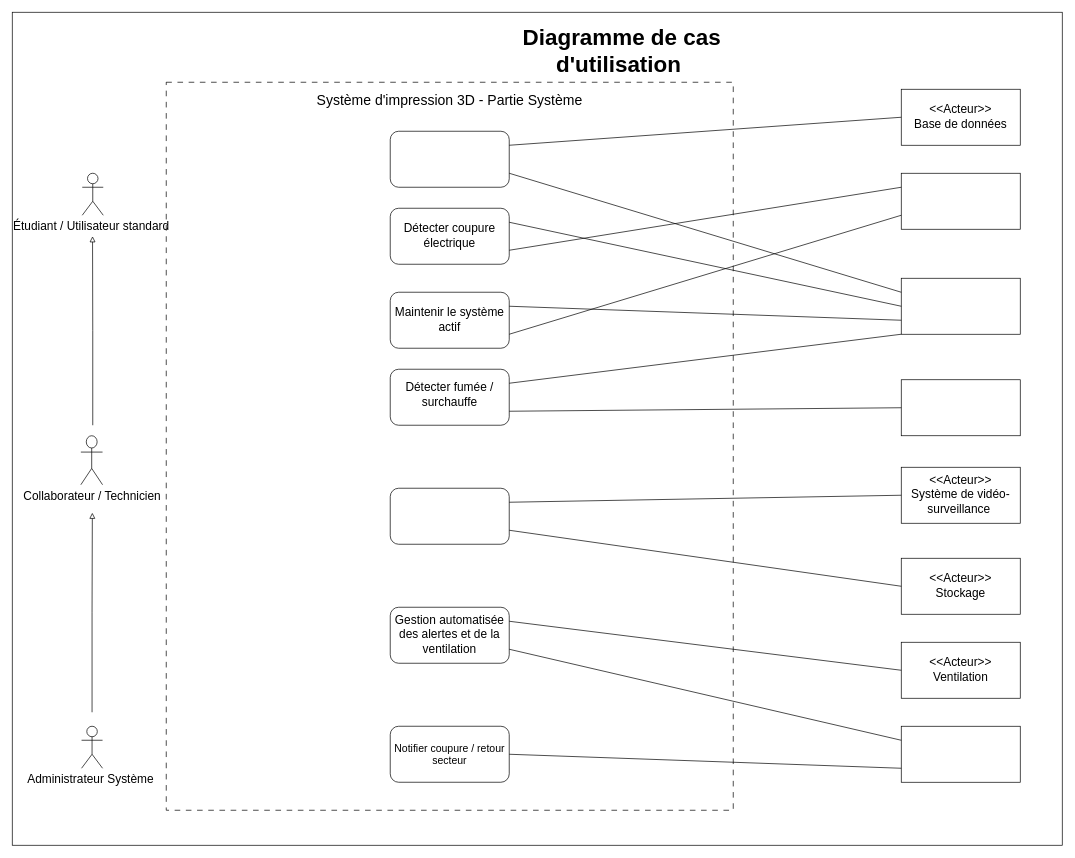
This 1075x858 diagram has some shape labels left out. Here are the shapes that lost their labels. From the top down, the centre of each, then its label:
At (x=449, y=159): "Calculer cout et durée d'impression".
At (x=960, y=201): "<<Acteur>> Onduleur (UPS)".
At (x=960, y=306): "<<Acteur>> Serveur d'impression".
At (x=960, y=407): "<<Acteur>> Capteurs de sécurisé".
At (x=449, y=516): "Enregistrer images / vidéos".
At (x=960, y=754): "<<Acteur>> Système de notification".
